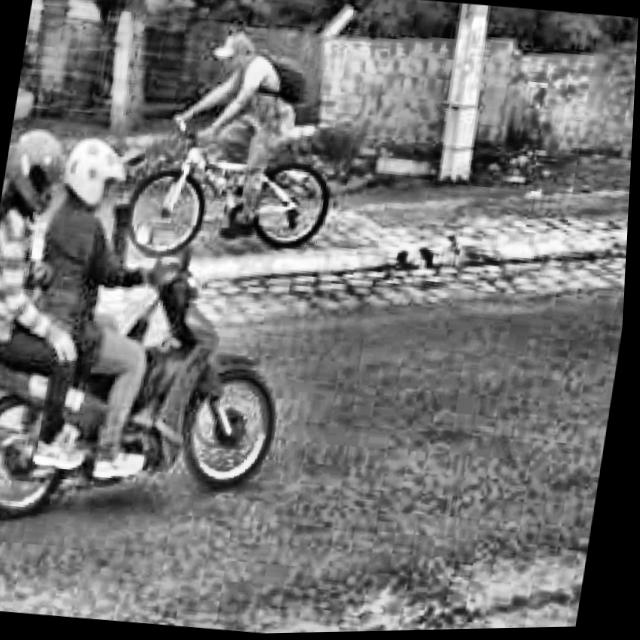motorcycle: (0, 230, 295, 545), (92, 101, 378, 273)
